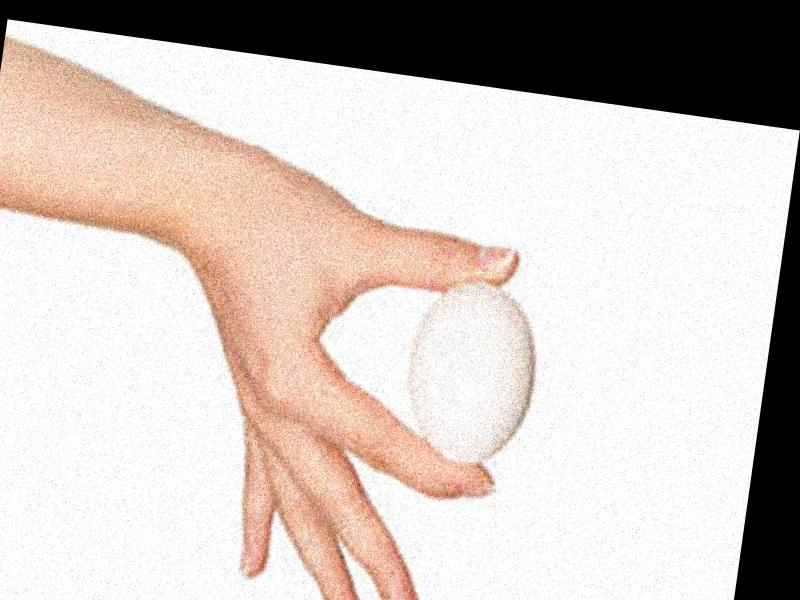Eggs: (395, 273, 549, 473)
